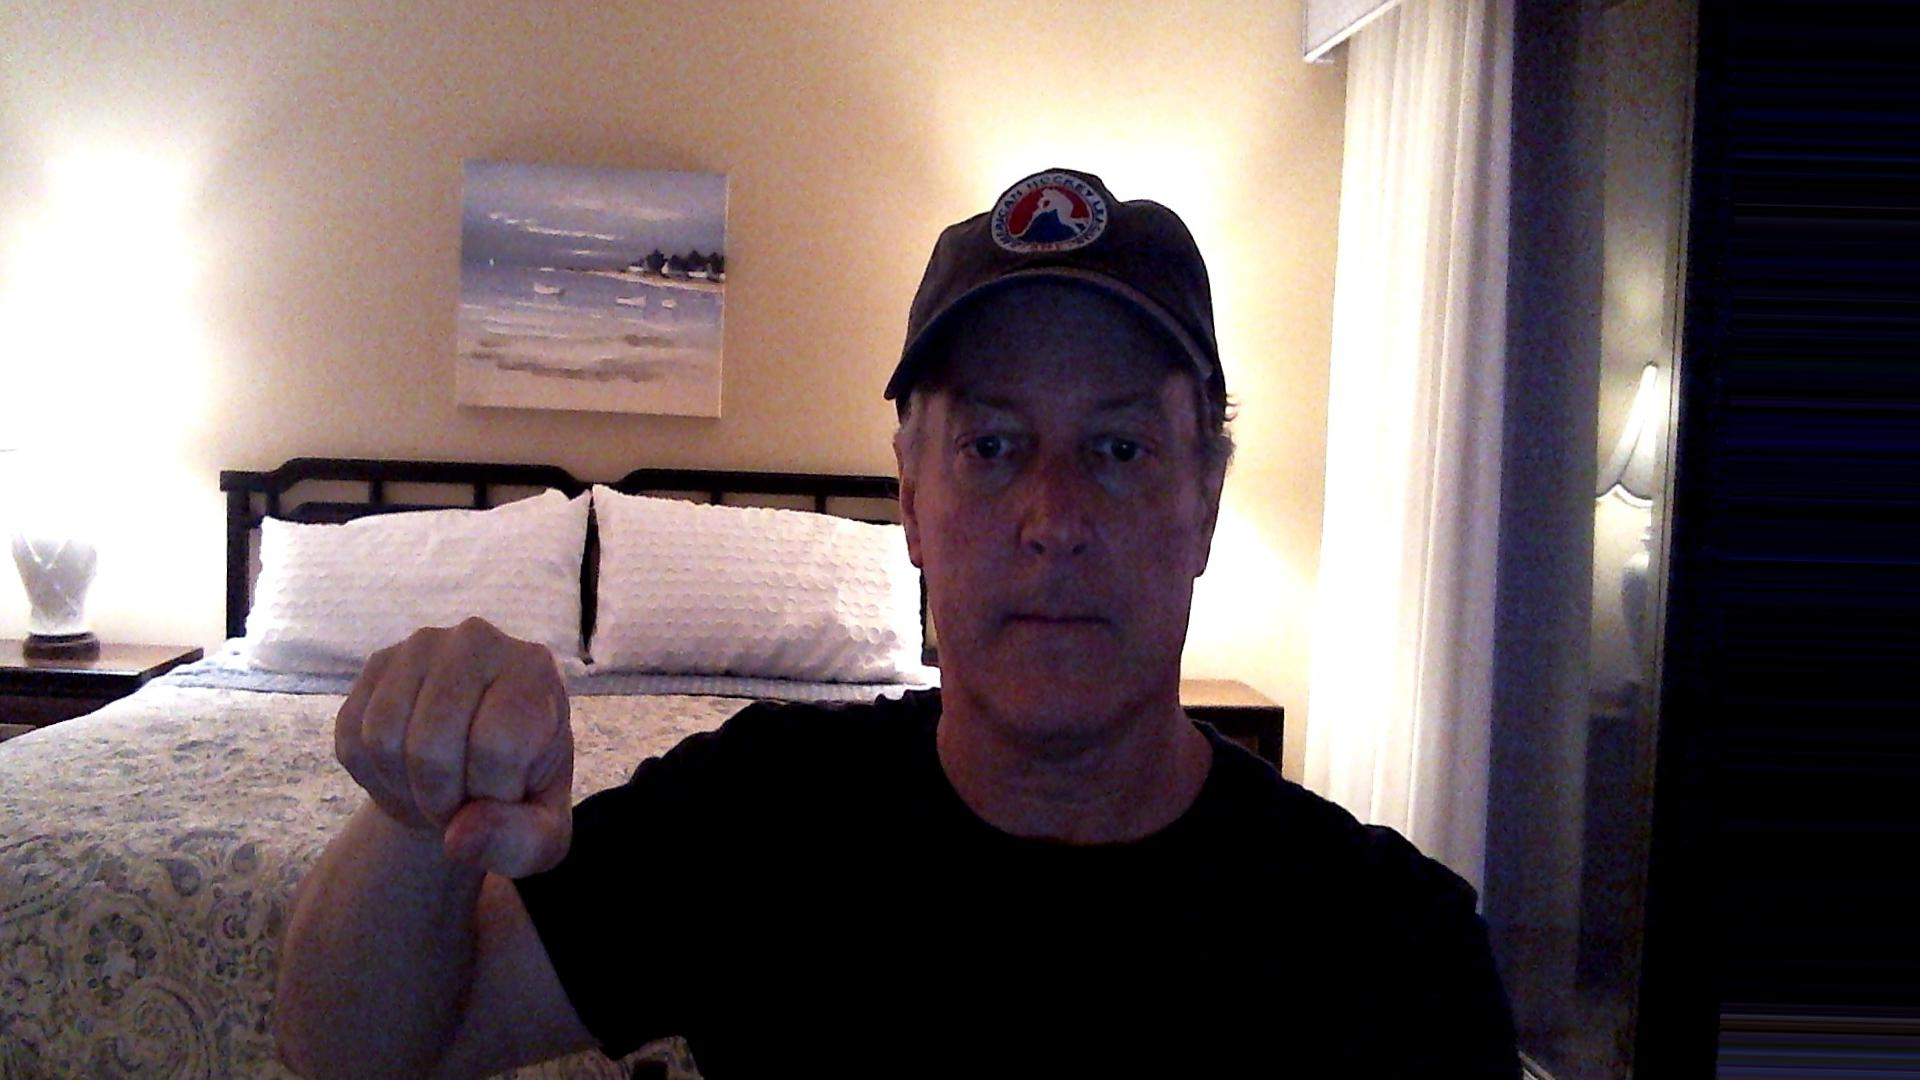Yes: (318, 611, 630, 907)
